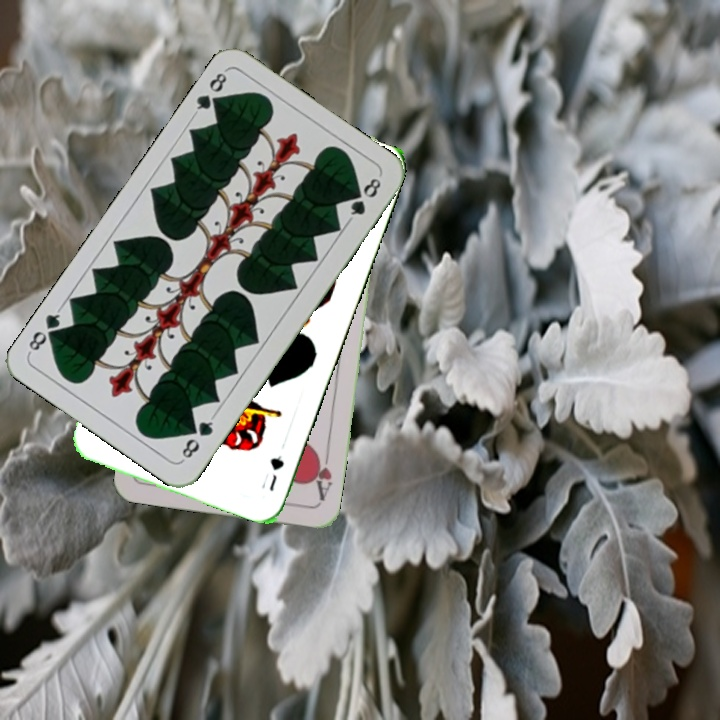G8: (176, 412, 217, 464), (189, 66, 230, 118)
GU: (265, 451, 287, 494)
HA: (308, 446, 335, 503)
